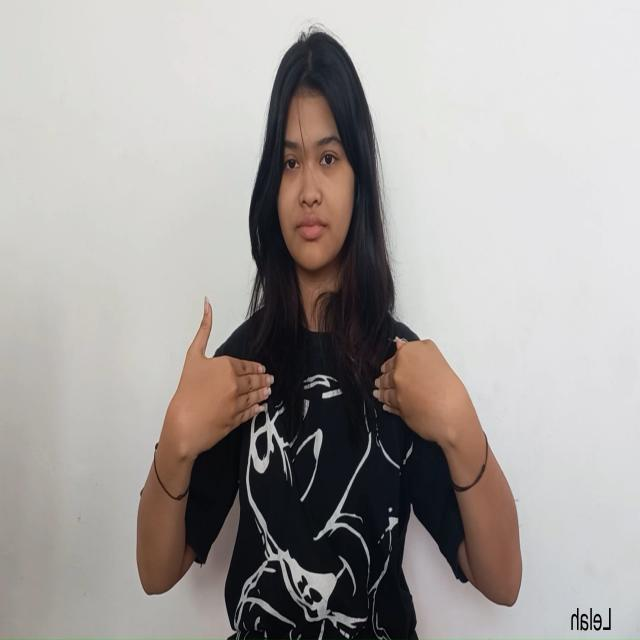Lelah -BISINDO-: (167, 294, 461, 470)
